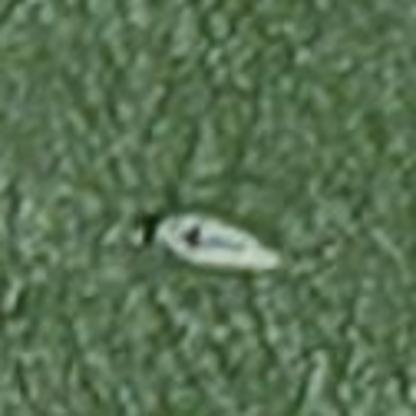ship: (136, 198, 298, 288)
